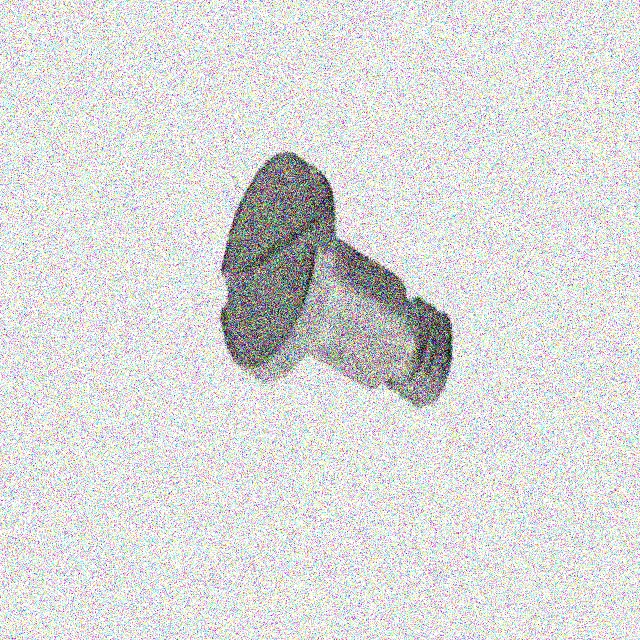duz: (219, 150, 333, 386)
